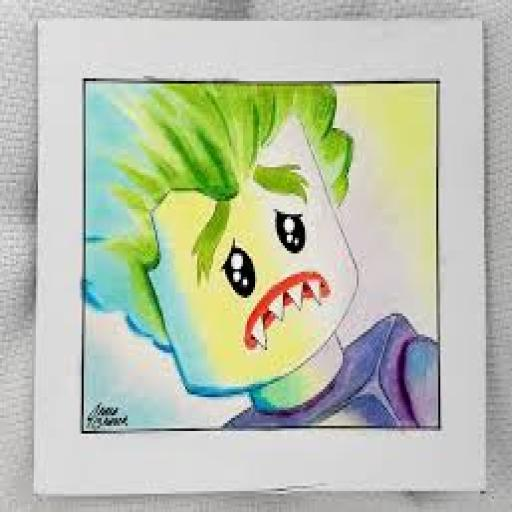person: (95, 79, 439, 434)
